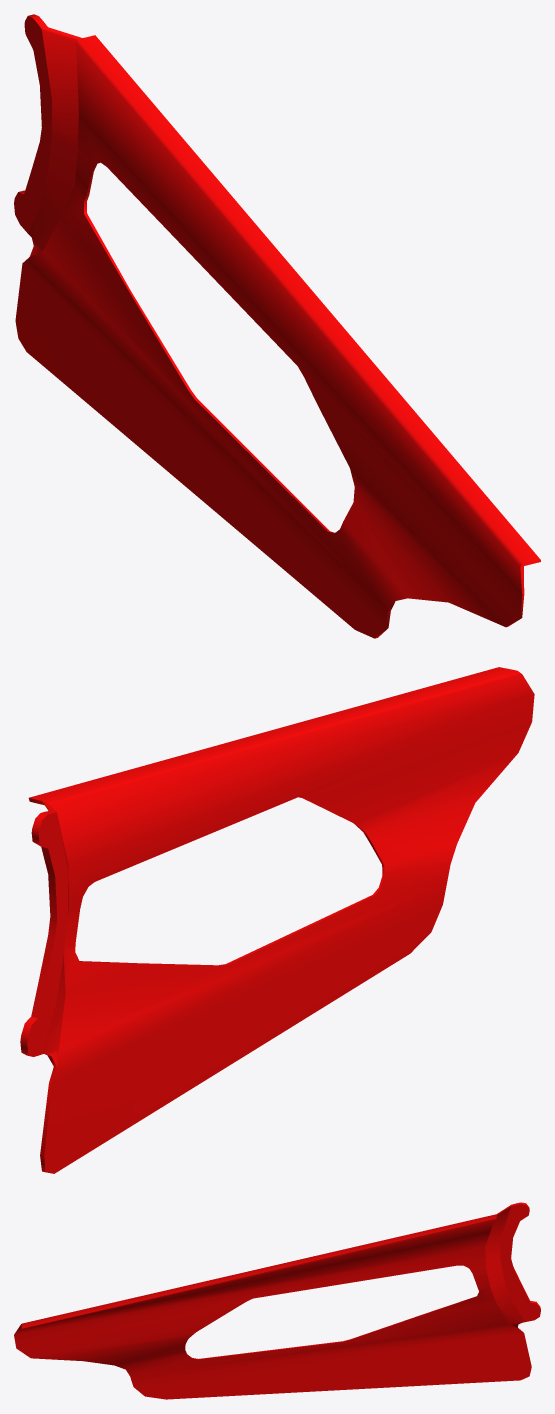
File: Protection.fbx
The picture shows the model from 3 angles, top to bottom: view 1: azimuth 30°, elevation 25°; view 2: azimuth 150°, elevation 25°; view 3: azimuth 270°, elevation 25°; orthographic projection. The views are drawn at different scales.
Visible parts, largest first — view 1: Protection; view 2: Protection; view 3: Protection.
Boxes of the visible parts, x1,y1,x2,y2 form: Protection: [14, 14, 540, 638]; Protection: [20, 667, 534, 1173]; Protection: [14, 1202, 540, 1399].
Size of the model in its own units: 31.74 by 213 by 512.
